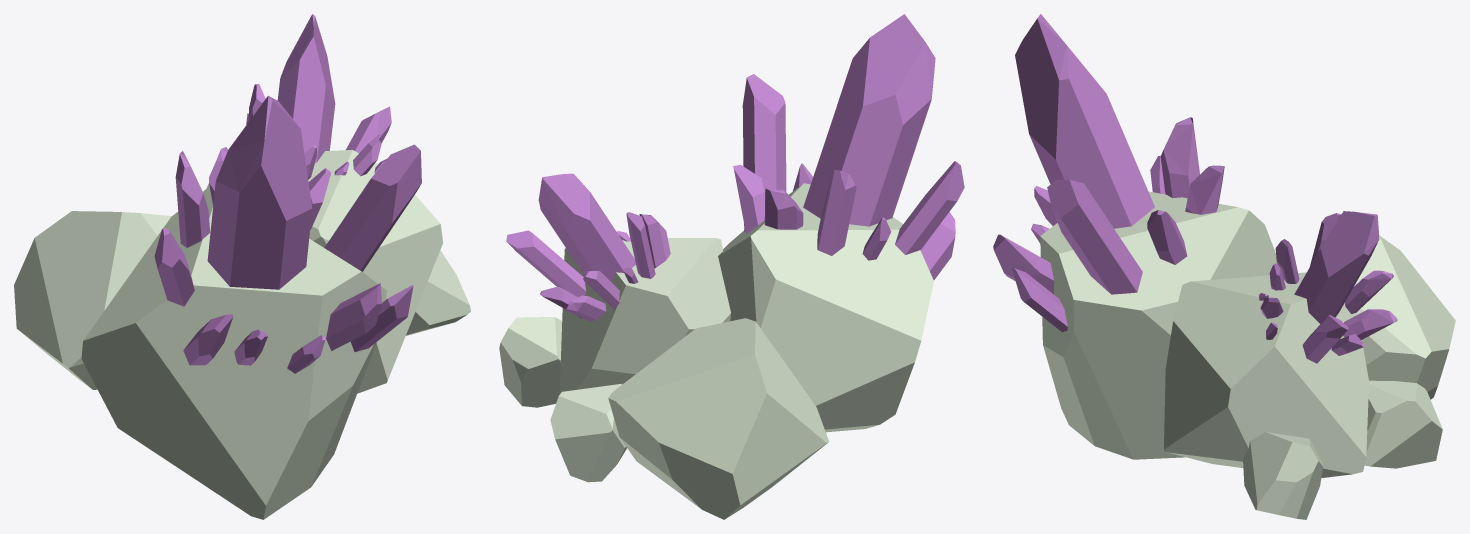
The model's file is CrystalRocks4.fbx.
3 renders of one model, left to right at view 1: azimuth 30°, elevation 25°; view 2: azimuth 150°, elevation 25°; view 3: azimuth 270°, elevation 25°, orthographic. The views are drawn at different scales.
Visible parts, largest first — view 1: Cylinder.039; view 2: Cylinder.039; view 3: Cylinder.039.
Boxes of the visible parts, x1,y1,x2,y2 form: Cylinder.039: (14,14,470,519); Cylinder.039: (499,14,964,519); Cylinder.039: (993,14,1455,519).
Size of the model in its own units: 250 by 248 by 256.
